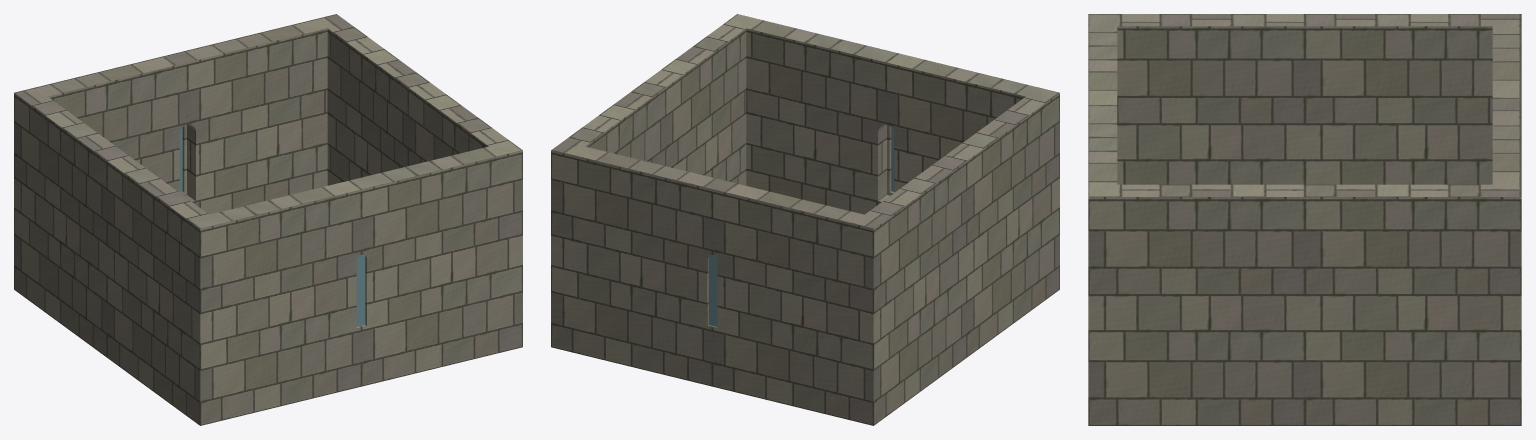
The model's file is Furn_Tower_Square.fbx.
3 renders of one model, left to right at view 1: azimuth 30°, elevation 25°; view 2: azimuth 150°, elevation 25°; view 3: azimuth 270°, elevation 25°, orthographic. The views are drawn at different scales.
Parts seen in each view (by area): view 1: Furn_Tower_Square_Mesh; view 2: Furn_Tower_Square_Mesh; view 3: Furn_Tower_Square_Mesh.
Part boxes in pixels (x1,y1,x2,y2): Furn_Tower_Square_Mesh: (14,14,522,425); Furn_Tower_Square_Mesh: (551,14,1059,425); Furn_Tower_Square_Mesh: (1088,14,1521,425).
Bounding box in the file's own units: 6 × 3.5 × 6.
